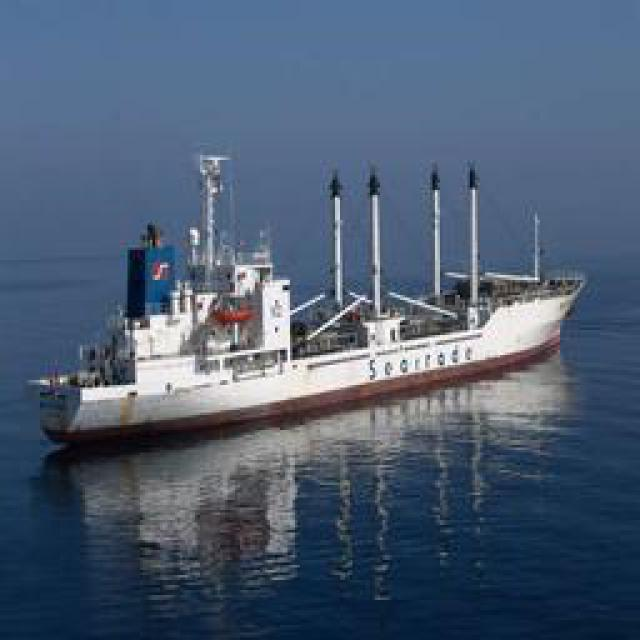Ship: (26, 143, 574, 451)
